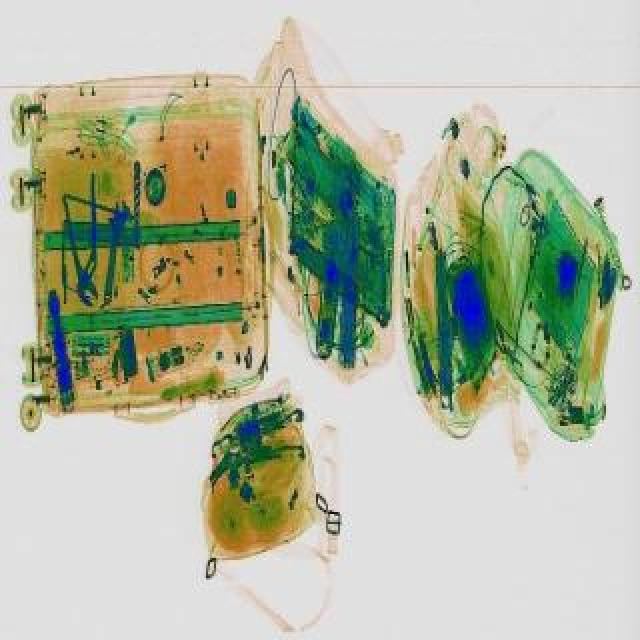scissors: (98, 196, 130, 304)
